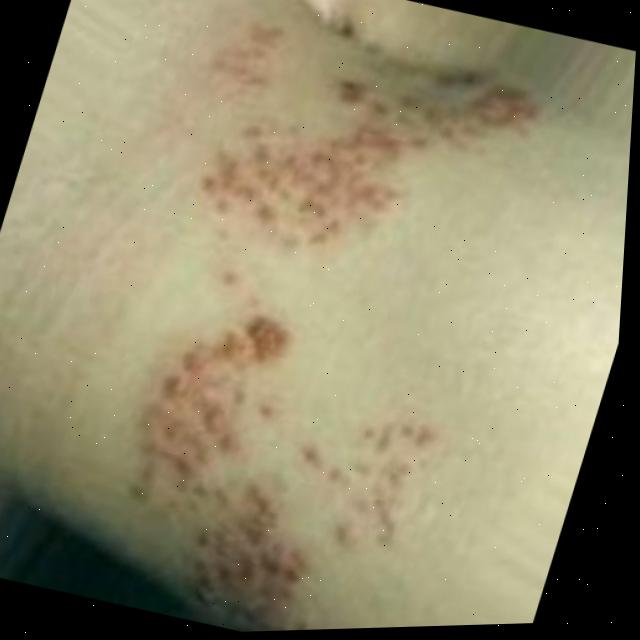Shingles: (95, 291, 468, 636), (170, 7, 552, 295)
